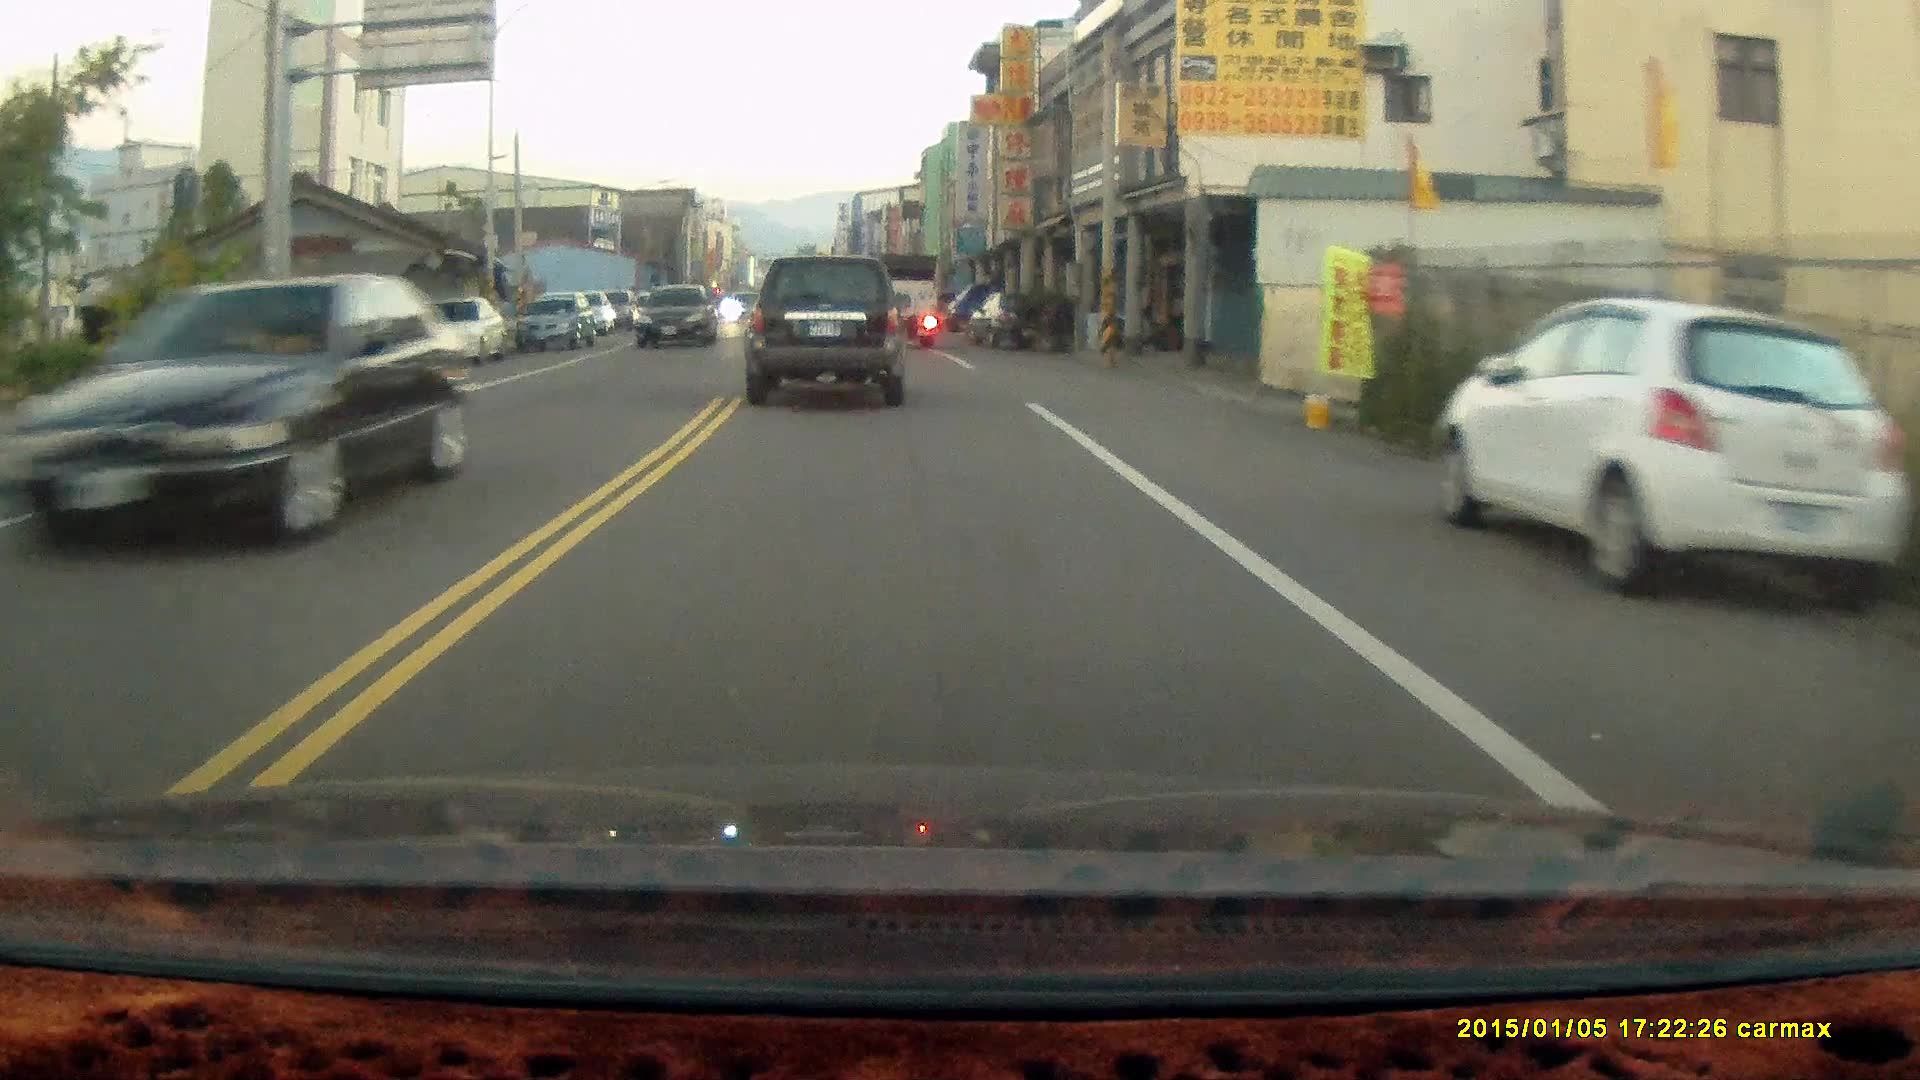vehicle: (1444, 306, 1902, 595), (1, 273, 465, 549), (745, 262, 915, 418), (860, 251, 944, 349), (407, 295, 506, 365), (636, 287, 721, 353), (512, 290, 595, 353)
